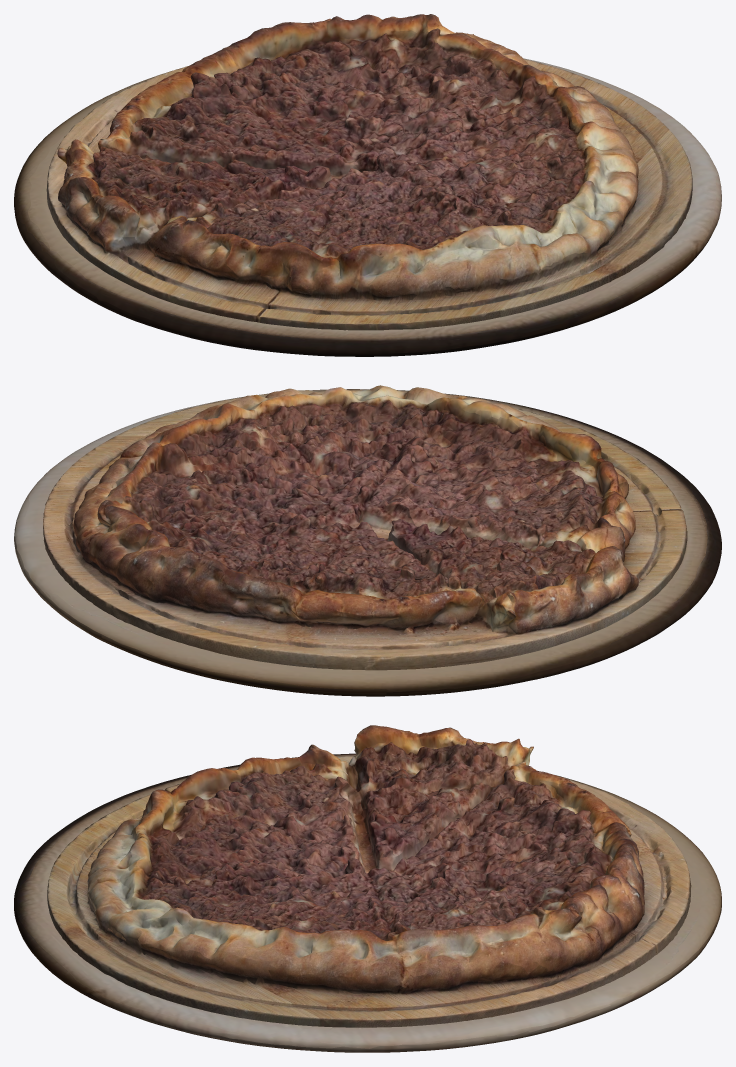
The model's file is lahmajoon.01.glb.
The picture shows the model from 3 angles, top to bottom: view 1: azimuth 30°, elevation 25°; view 2: azimuth 150°, elevation 25°; view 3: azimuth 270°, elevation 25°; orthographic projection.
Visible parts, largest first — view 1: /Root/Scenes/Scene/Object_37/Object_38/Submesh_0, /Root/Scenes/Scene/Object_37/Object_41/Object_42/Submesh_0; view 2: /Root/Scenes/Scene/Object_37/Object_38/Submesh_0, /Root/Scenes/Scene/Object_37/Object_41/Object_42/Submesh_0; view 3: /Root/Scenes/Scene/Object_37/Object_38/Submesh_0, /Root/Scenes/Scene/Object_37/Object_41/Object_42/Submesh_0.
Part boxes in pixels (x1=…): /Root/Scenes/Scene/Object_37/Object_38/Submesh_0: x1=46, y1=14, x2=692, y2=330; /Root/Scenes/Scene/Object_37/Object_41/Object_42/Submesh_0: x1=14, y1=58, x2=721, y2=356; /Root/Scenes/Scene/Object_37/Object_38/Submesh_0: x1=43, y1=385, x2=687, y2=670; /Root/Scenes/Scene/Object_37/Object_41/Object_42/Submesh_0: x1=14, y1=389, x2=721, y2=696; /Root/Scenes/Scene/Object_37/Object_38/Submesh_0: x1=47, y1=725, x2=691, y2=1027; /Root/Scenes/Scene/Object_37/Object_41/Object_42/Submesh_0: x1=14, y1=753, x2=721, y2=1052.
Bounding box in the file's own units: 0.3331 × 0.0452 × 0.3332.
2 materials, 2 textured.
